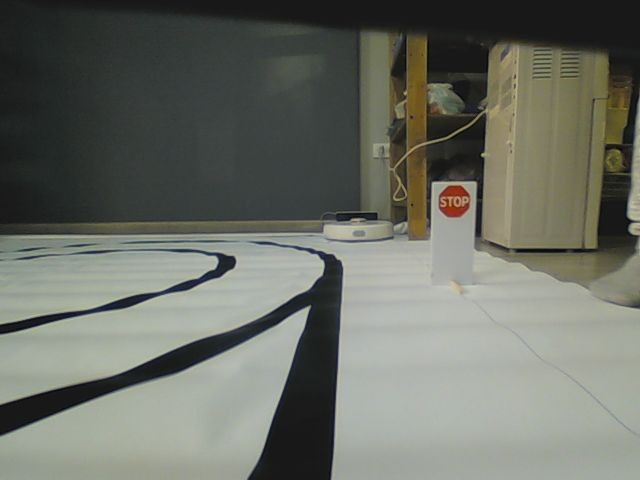Stop: (436, 185, 471, 220)
